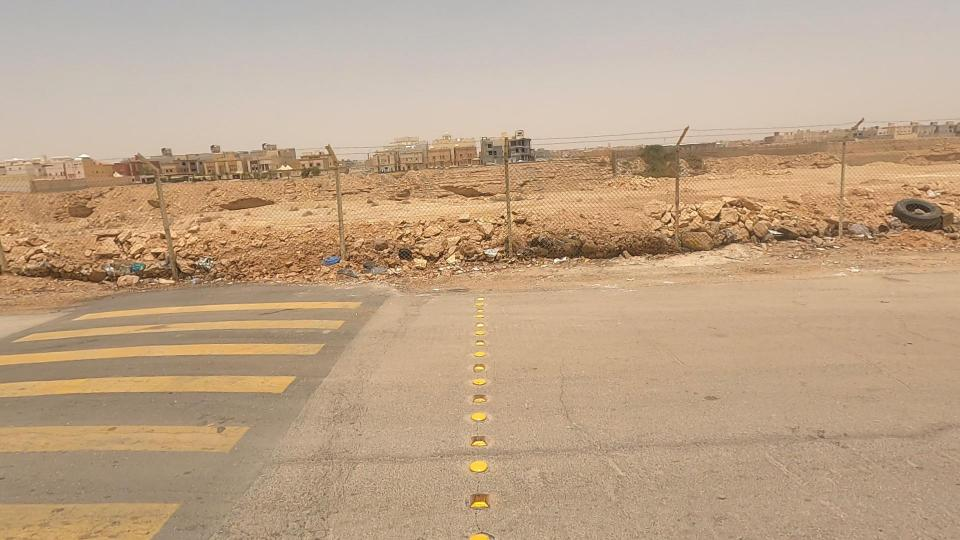GARBAGE: (793, 171, 915, 302), (263, 210, 392, 324), (859, 154, 960, 299), (144, 224, 270, 321), (424, 218, 551, 300), (727, 190, 831, 289), (74, 226, 159, 316)
